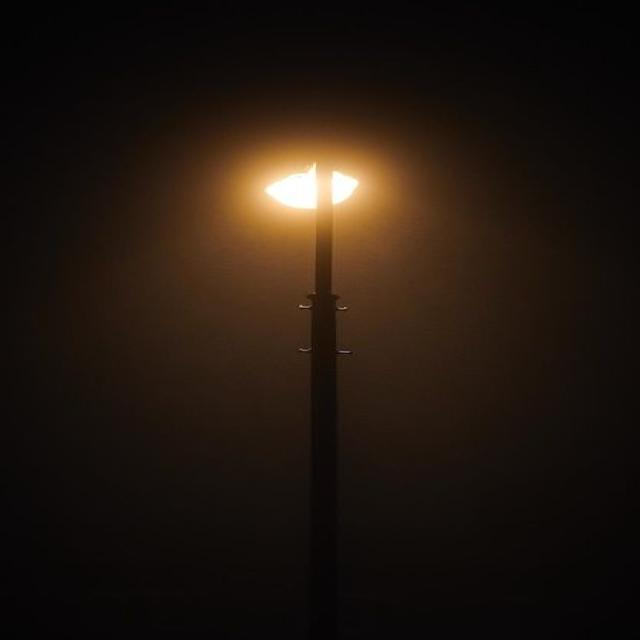on: (262, 150, 384, 223)
